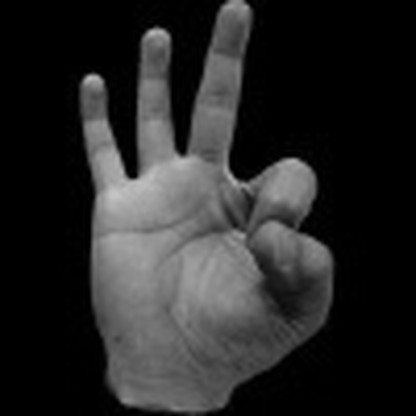f: (53, 1, 350, 374)
